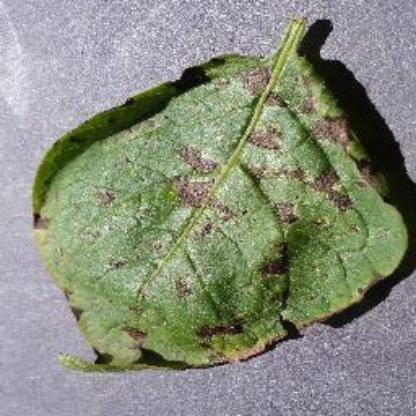Early-Blight: (26, 16, 412, 376)
